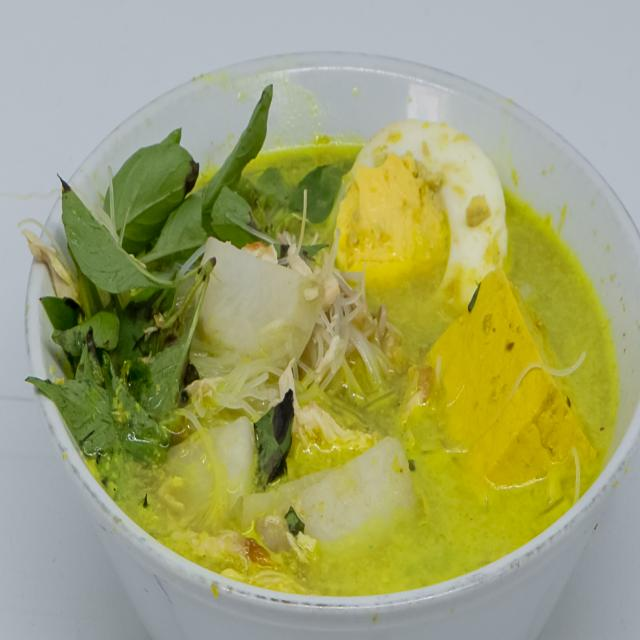Laksa-Bogor: (12, 44, 630, 604)
